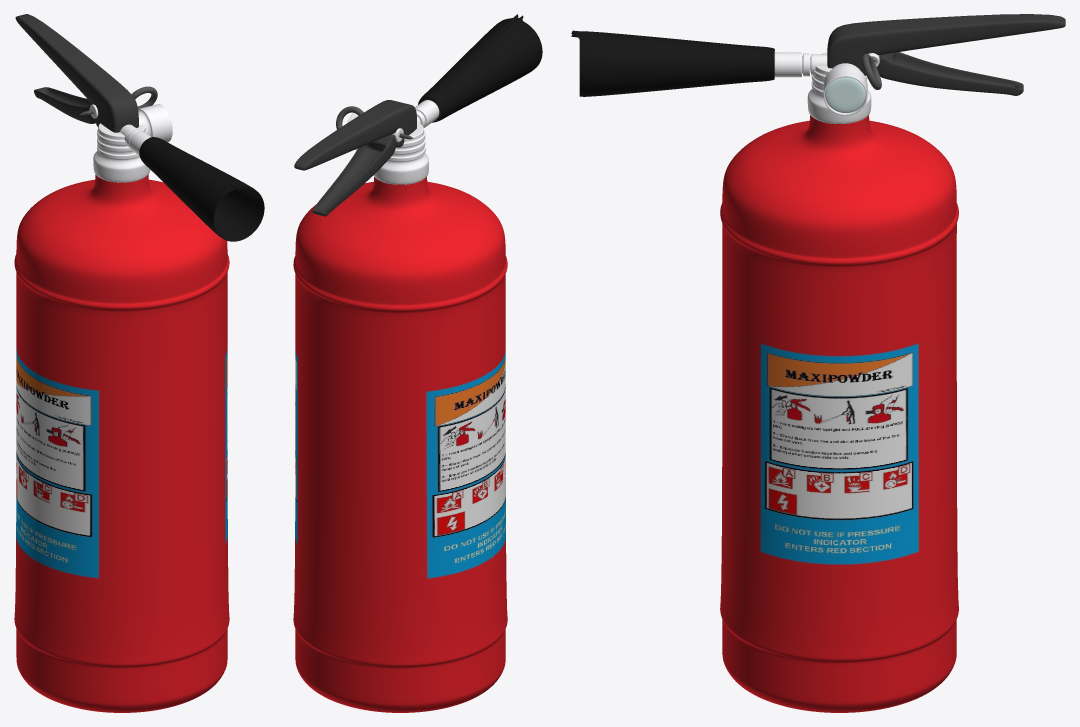
3 views of the same model, side by side, from view 1: azimuth 30°, elevation 25°; view 2: azimuth 150°, elevation 25°; view 3: azimuth 270°, elevation 25° (orthographic). The views are drawn at different scales.
Parts seen in each view (by area): view 1: 1.Bdoy, 6.Jet, 4.Handle, 5.Neck, 3.MainHandle; view 2: 1.Bdoy, 6.Jet, 4.Handle, 5.Neck, 3.MainHandle; view 3: 1.Bdoy, 6.Jet, 4.Handle, 5.Neck, 3.MainHandle, 7.Glass.
Part boxes in pixels (x1,y1,x2,y2): 1.Bdoy: (14, 174, 229, 712); 6.Jet: (139, 137, 264, 241); 4.Handle: (15, 14, 138, 132); 5.Neck: (89, 104, 172, 182); 3.MainHandle: (34, 87, 95, 123); 1.Bdoy: (293, 177, 507, 712); 6.Jet: (418, 14, 542, 122); 4.Handle: (294, 100, 416, 170); 5.Neck: (347, 100, 439, 184); 3.MainHandle: (312, 134, 396, 216); 1.Bdoy: (720, 115, 958, 712); 6.Jet: (571, 30, 774, 96); 4.Handle: (827, 14, 1065, 75); 5.Neck: (774, 52, 879, 123); 3.MainHandle: (874, 52, 1023, 95); 7.Glass: (825, 77, 865, 112).
Size of the model in its own units: 256 by 773 by 530.
